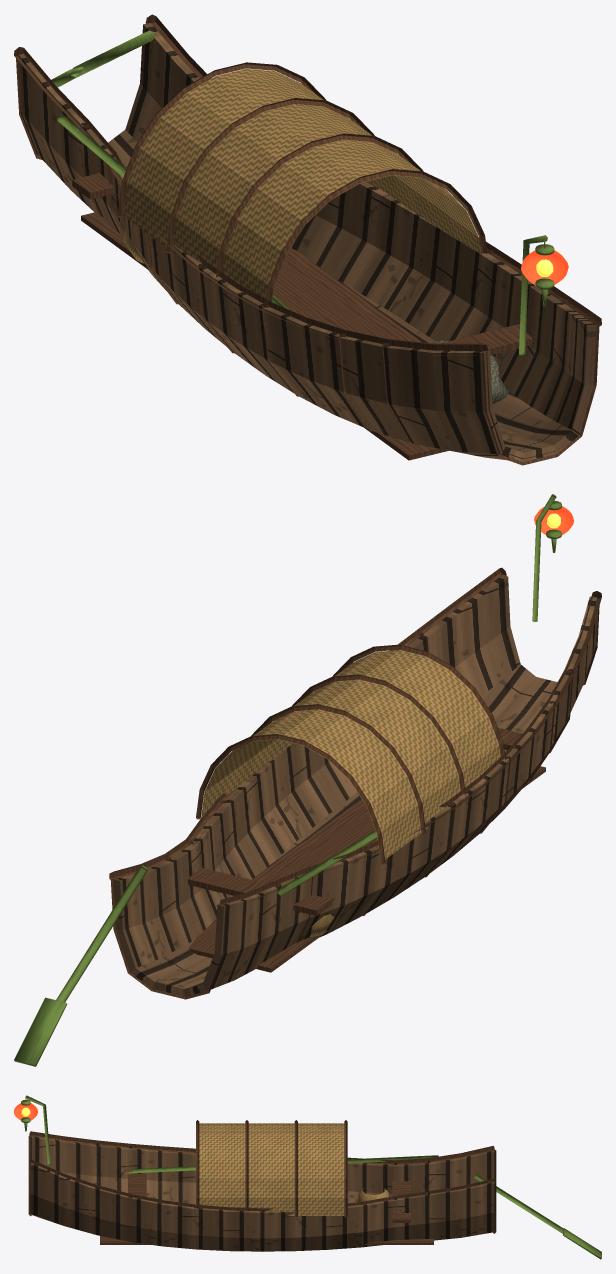
Rendered from fishing_boat.glb.
3 renders of one model, top to bottom at view 1: azimuth 30°, elevation 25°; view 2: azimuth 150°, elevation 25°; view 3: azimuth 270°, elevation 25°, orthographic. The views are drawn at different scales.
Parts seen in each view (by area): view 1: Hull, Canopy, BoatTrim, OarAndPole, BowLantern; view 2: Hull, Canopy, BoatTrim, OarAndPole; view 3: Hull, Canopy, BoatTrim, OarAndPole, BowLantern.
Boxes of the visible parts, left/top/right/bottom form: Hull: left=19, top=23, right=596, bottom=461; Canopy: left=123, top=69, right=481, bottom=301; BoatTrim: left=14, top=14, right=601, bottom=465; OarAndPole: left=51, top=30, right=554, bottom=355; BowLantern: left=521, top=250, right=568, bottom=285; Hull: left=113, top=574, right=597, bottom=996; Canopy: left=201, top=650, right=500, bottom=862; BoatTrim: left=109, top=567, right=601, bottom=999; OarAndPole: left=14, top=494, right=561, bottom=1066; Hull: left=30, top=1136, right=494, bottom=1251; Canopy: left=199, top=1123, right=344, bottom=1215; BoatTrim: left=28, top=1120, right=496, bottom=1249; OarAndPole: left=21, top=1095, right=601, bottom=1259; BowLantern: left=14, top=1103, right=37, bottom=1120.
Size of what is drawn, in the model's own units: 1.5 by 1.72 by 6.34.
8 materials, 7 textured.
